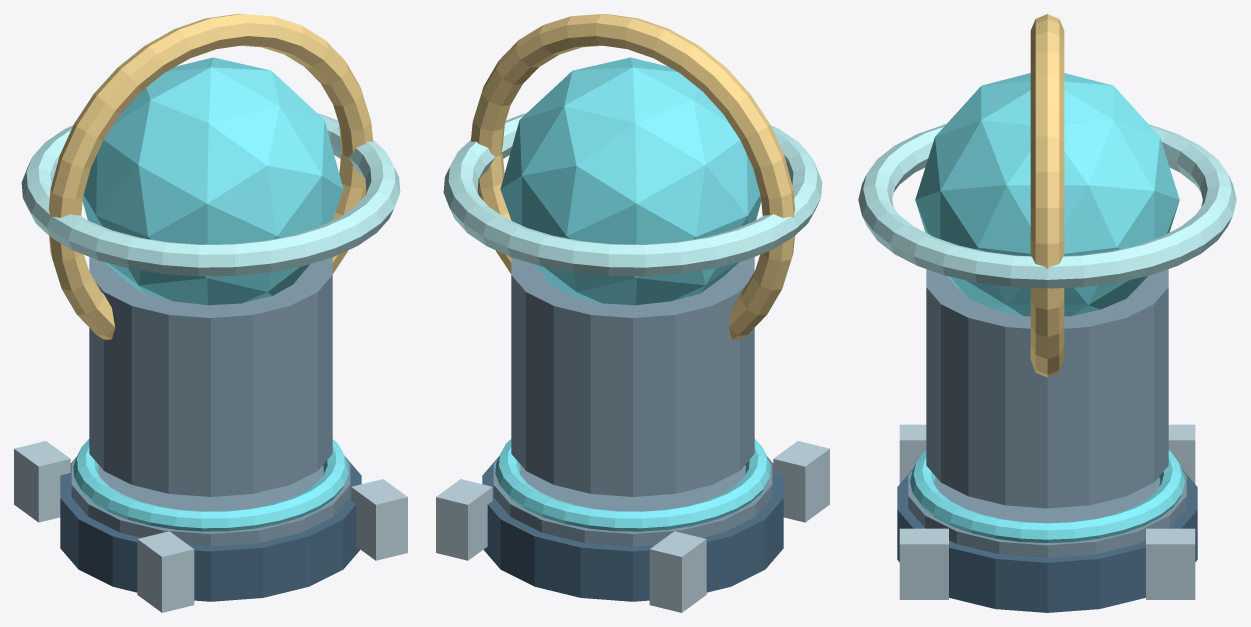
The model's file is core_reactor.glb.
The picture shows the model from 3 angles, left to right: view 1: azimuth 30°, elevation 25°; view 2: azimuth 150°, elevation 25°; view 3: azimuth 270°, elevation 25°; orthographic projection.
Visible parts, largest first — view 1: reactor_chamber_7, energy_core_8, outer_ring_9, stabilizer_ring_10, pedestal_0, armor_ring_1, energy_ring_2, bolt_5, bolt_6, bolt_3; view 2: reactor_chamber_7, energy_core_8, outer_ring_9, stabilizer_ring_10, pedestal_0, armor_ring_1, energy_ring_2, bolt_3, bolt_4, bolt_5; view 3: reactor_chamber_7, energy_core_8, stabilizer_ring_10, pedestal_0, outer_ring_9, armor_ring_1, energy_ring_2, bolt_4, bolt_6, bolt_3, bolt_5.
Part boxes in pixels (box(x1,y1,x2,y2)): reactor_chamber_7: box(89, 257, 332, 496); energy_core_8: box(82, 57, 343, 305); outer_ring_9: box(48, 14, 372, 339); stabilizer_ring_10: box(21, 113, 400, 276); pedestal_0: box(60, 456, 361, 601); armor_ring_1: box(71, 459, 350, 546); energy_ring_2: box(73, 439, 348, 531); bolt_5: box(137, 531, 194, 612); bolt_6: box(351, 479, 407, 560); bolt_3: box(14, 441, 70, 522); reactor_chamber_7: box(511, 257, 754, 496); energy_core_8: box(500, 57, 761, 305); outer_ring_9: box(471, 14, 795, 339); stabilizer_ring_10: box(443, 113, 822, 276); pedestal_0: box(482, 456, 783, 601); armor_ring_1: box(493, 459, 772, 546); energy_ring_2: box(495, 439, 770, 531); bolt_3: box(649, 531, 706, 612); bolt_4: box(436, 479, 492, 560); bolt_5: box(773, 441, 829, 522); reactor_chamber_7: box(926, 269, 1168, 508); energy_core_8: box(915, 73, 1179, 316); stabilizer_ring_10: box(858, 124, 1236, 288); pedestal_0: box(897, 469, 1197, 612); outer_ring_9: box(1030, 14, 1064, 377); armor_ring_1: box(908, 471, 1186, 557); energy_ring_2: box(910, 450, 1184, 542); bolt_4: box(1146, 528, 1195, 599); bolt_6: box(899, 528, 948, 599); bolt_3: box(1168, 424, 1195, 483); bolt_5: box(899, 424, 926, 483).
Bounding box in the file's own units: 1.23 × 1.85 × 1.23.
